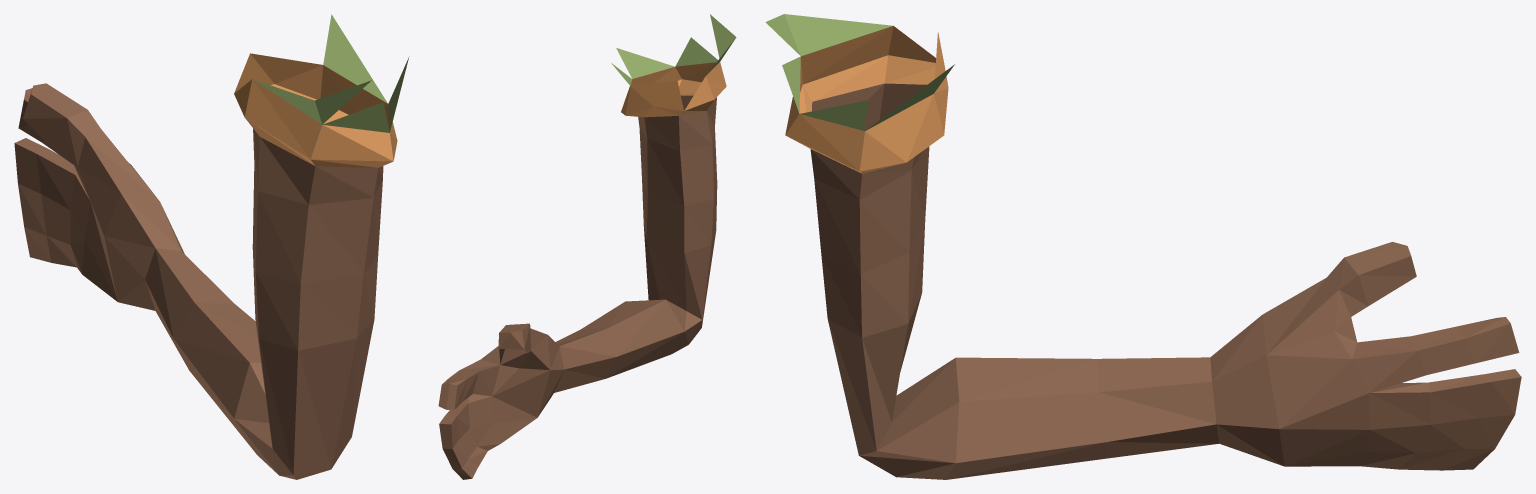
File: Mother_01_ArmR_96_03_C.obj
3 views of the same model, side by side, from view 1: azimuth 30°, elevation 25°; view 2: azimuth 150°, elevation 25°; view 3: azimuth 270°, elevation 25° (orthographic). The views are drawn at different scales.
Visible parts, largest first — view 1: Mother_01_ArmR_96_03_C; view 2: Mother_01_ArmR_96_03_C; view 3: Mother_01_ArmR_96_03_C.
Boxes of the visible parts, bbox=[...] form: Mother_01_ArmR_96_03_C: bbox=[14, 14, 409, 479]; Mother_01_ArmR_96_03_C: bbox=[438, 14, 736, 479]; Mother_01_ArmR_96_03_C: bbox=[765, 14, 1521, 479].
Size of the model in its own units: 0.1419 by 0.3921 by 0.5905.
Materials: 1 (1 with a texture image).
